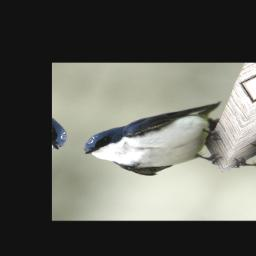Swallow: (75, 84, 247, 187)
